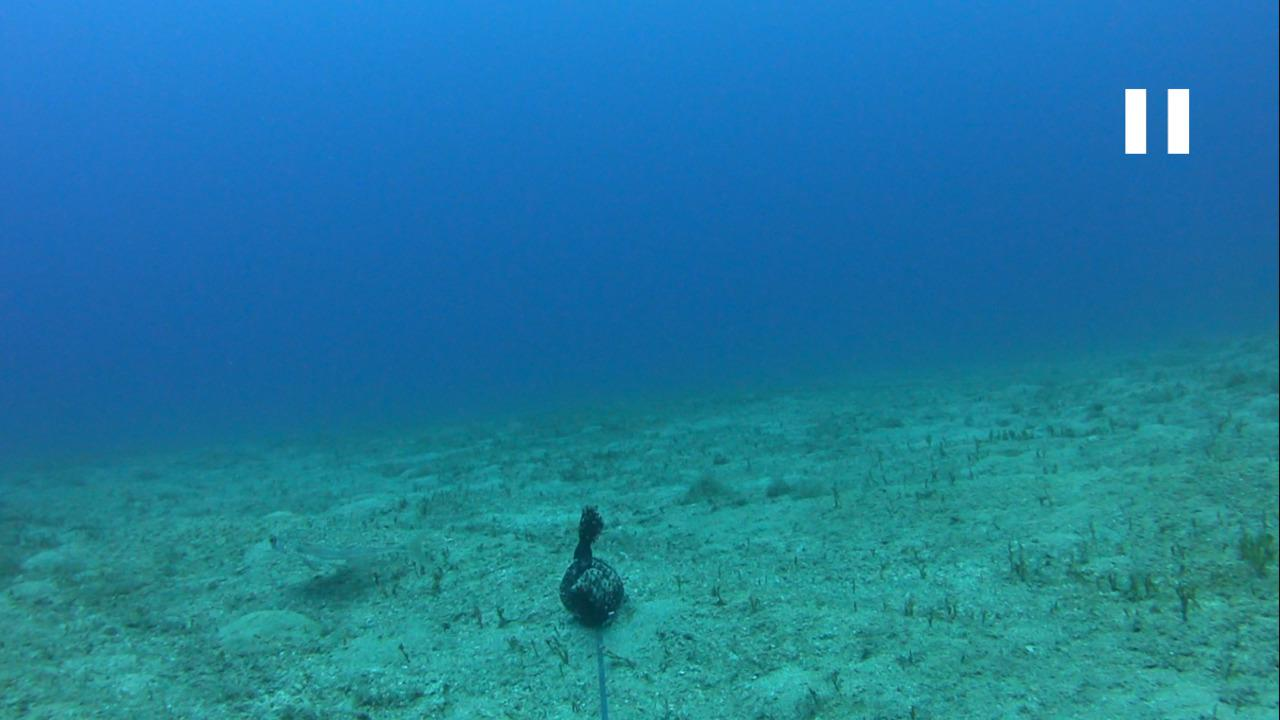dactylopterus: (257, 523, 436, 582)
